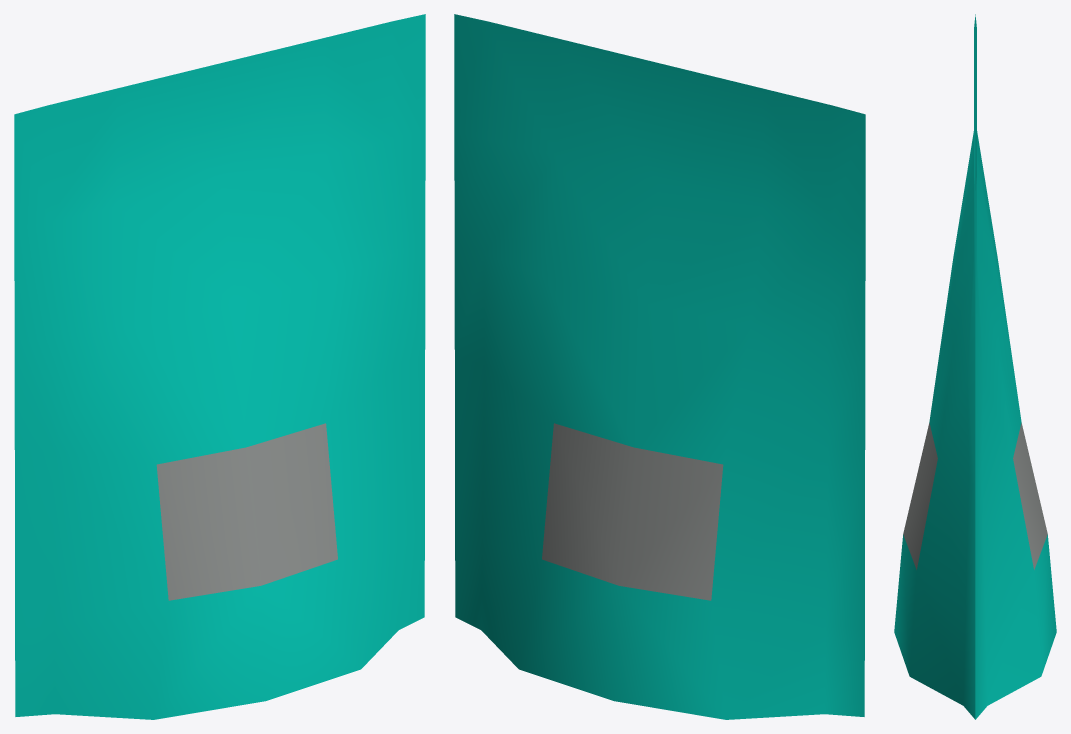
3 views of the same model, side by side, from view 1: azimuth 30°, elevation 25°; view 2: azimuth 150°, elevation 25°; view 3: azimuth 270°, elevation 25° (orthographic). The views are drawn at different scales.
Parts seen in each view (by area): view 1: G:\FFXIV-MapTools\exports\x6t1\bg\ex5\01_xkt_x6\twn\x6t1\bgp; view 2: G:\FFXIV-MapTools\exports\x6t1\bg\ex5\01_xkt_x6\twn\x6t1\bgp; view 3: G:\FFXIV-MapTools\exports\x6t1\bg\ex5\01_xkt_x6\twn\x6t1\bgp.
Boxes of the visible parts, <box> form: G:\FFXIV-MapTools\exports\x6t1\bg\ex5\01_xkt_x6\twn\x6t1\bgp: <box>14,14,425,719</box>; G:\FFXIV-MapTools\exports\x6t1\bg\ex5\01_xkt_x6\twn\x6t1\bgp: <box>454,14,865,719</box>; G:\FFXIV-MapTools\exports\x6t1\bg\ex5\01_xkt_x6\twn\x6t1\bgp: <box>894,14,1056,719</box>.
Bounding box in the file's own units: 0.3701 × 0.5181 × 0.144.
